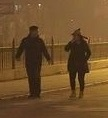person: (14, 25, 52, 100), (64, 27, 91, 99)
